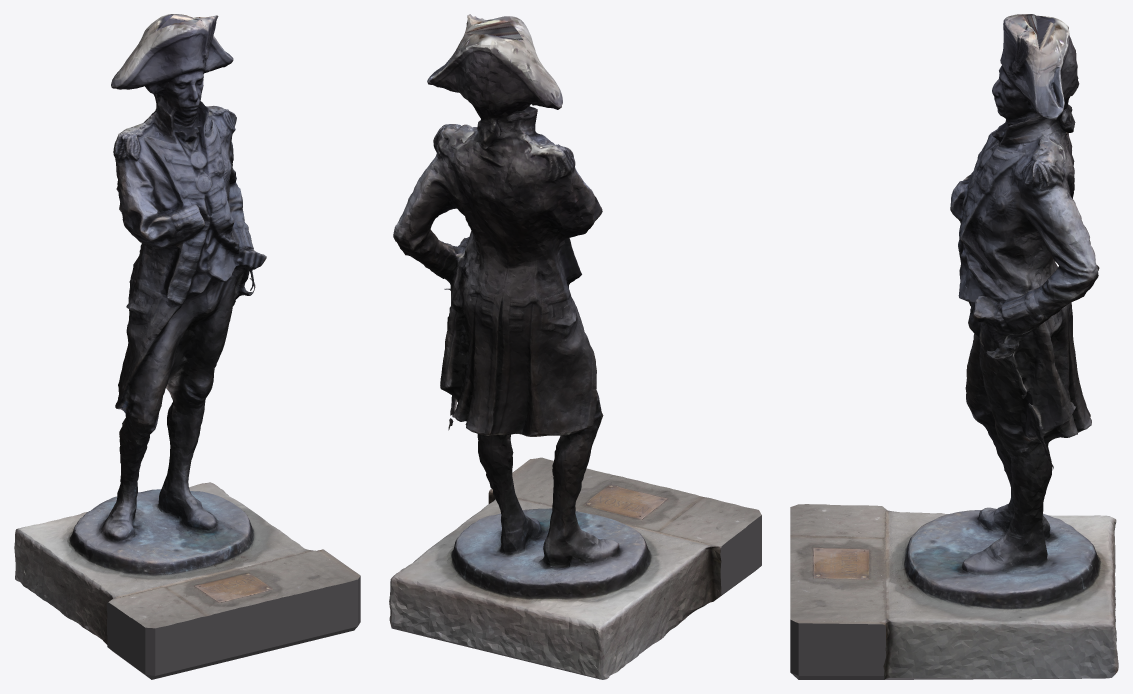
File: nelson-edit.obj
3 views of the same model, side by side, from view 1: azimuth 30°, elevation 25°; view 2: azimuth 150°, elevation 25°; view 3: azimuth 270°, elevation 25° (orthographic). The views are drawn at different scales.
Visible parts, largest first — view 1: nelson; view 2: nelson; view 3: nelson.
Part boxes in pixels (bbox=[...]): nelson: bbox=[14, 14, 360, 679]; nelson: bbox=[389, 14, 761, 679]; nelson: bbox=[790, 14, 1118, 679].
Size of the model in its own units: 3.33 by 8.16 by 3.9.
Materials: 2 (2 with a texture image).
